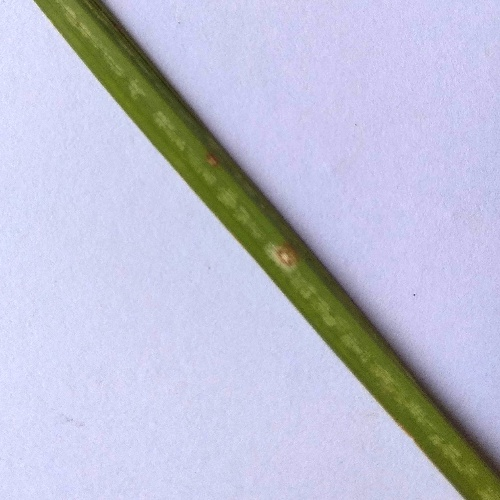Busuk Leher: (270, 233, 303, 275), (198, 146, 228, 178)
